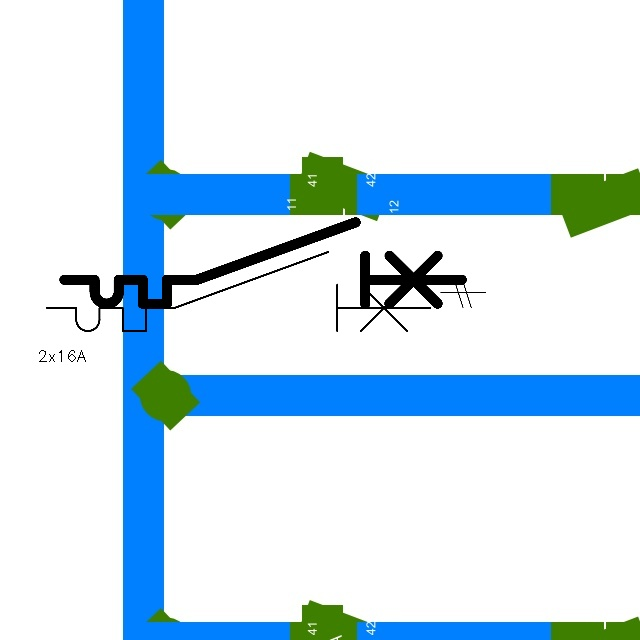interruptor_termomagnetico: (54, 212, 472, 314), (37, 242, 440, 341)
